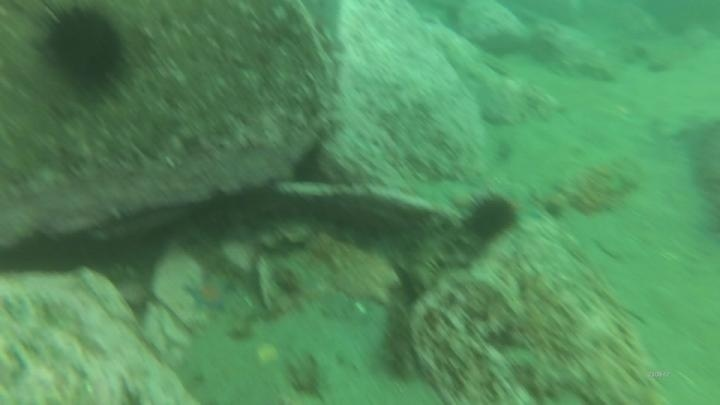echinus: (36, 4, 131, 99), (462, 191, 520, 244)
holothurian: (374, 256, 431, 386), (399, 219, 477, 294)
starfish: (181, 271, 237, 317)
